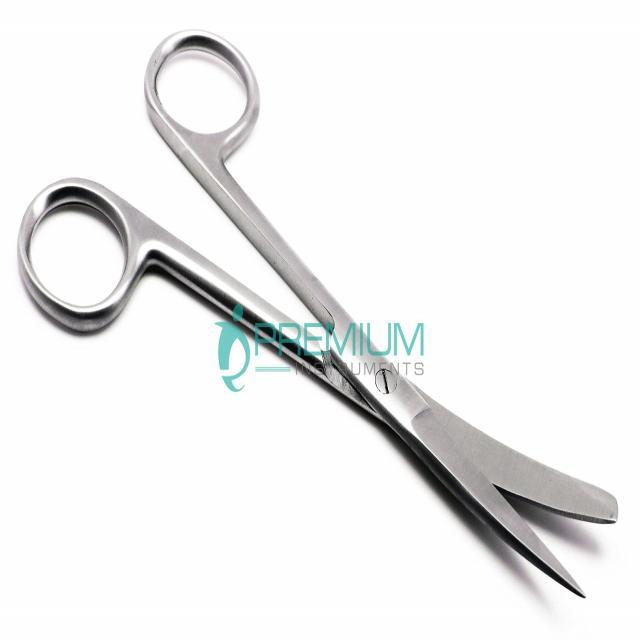scissors: (16, 28, 618, 601)
